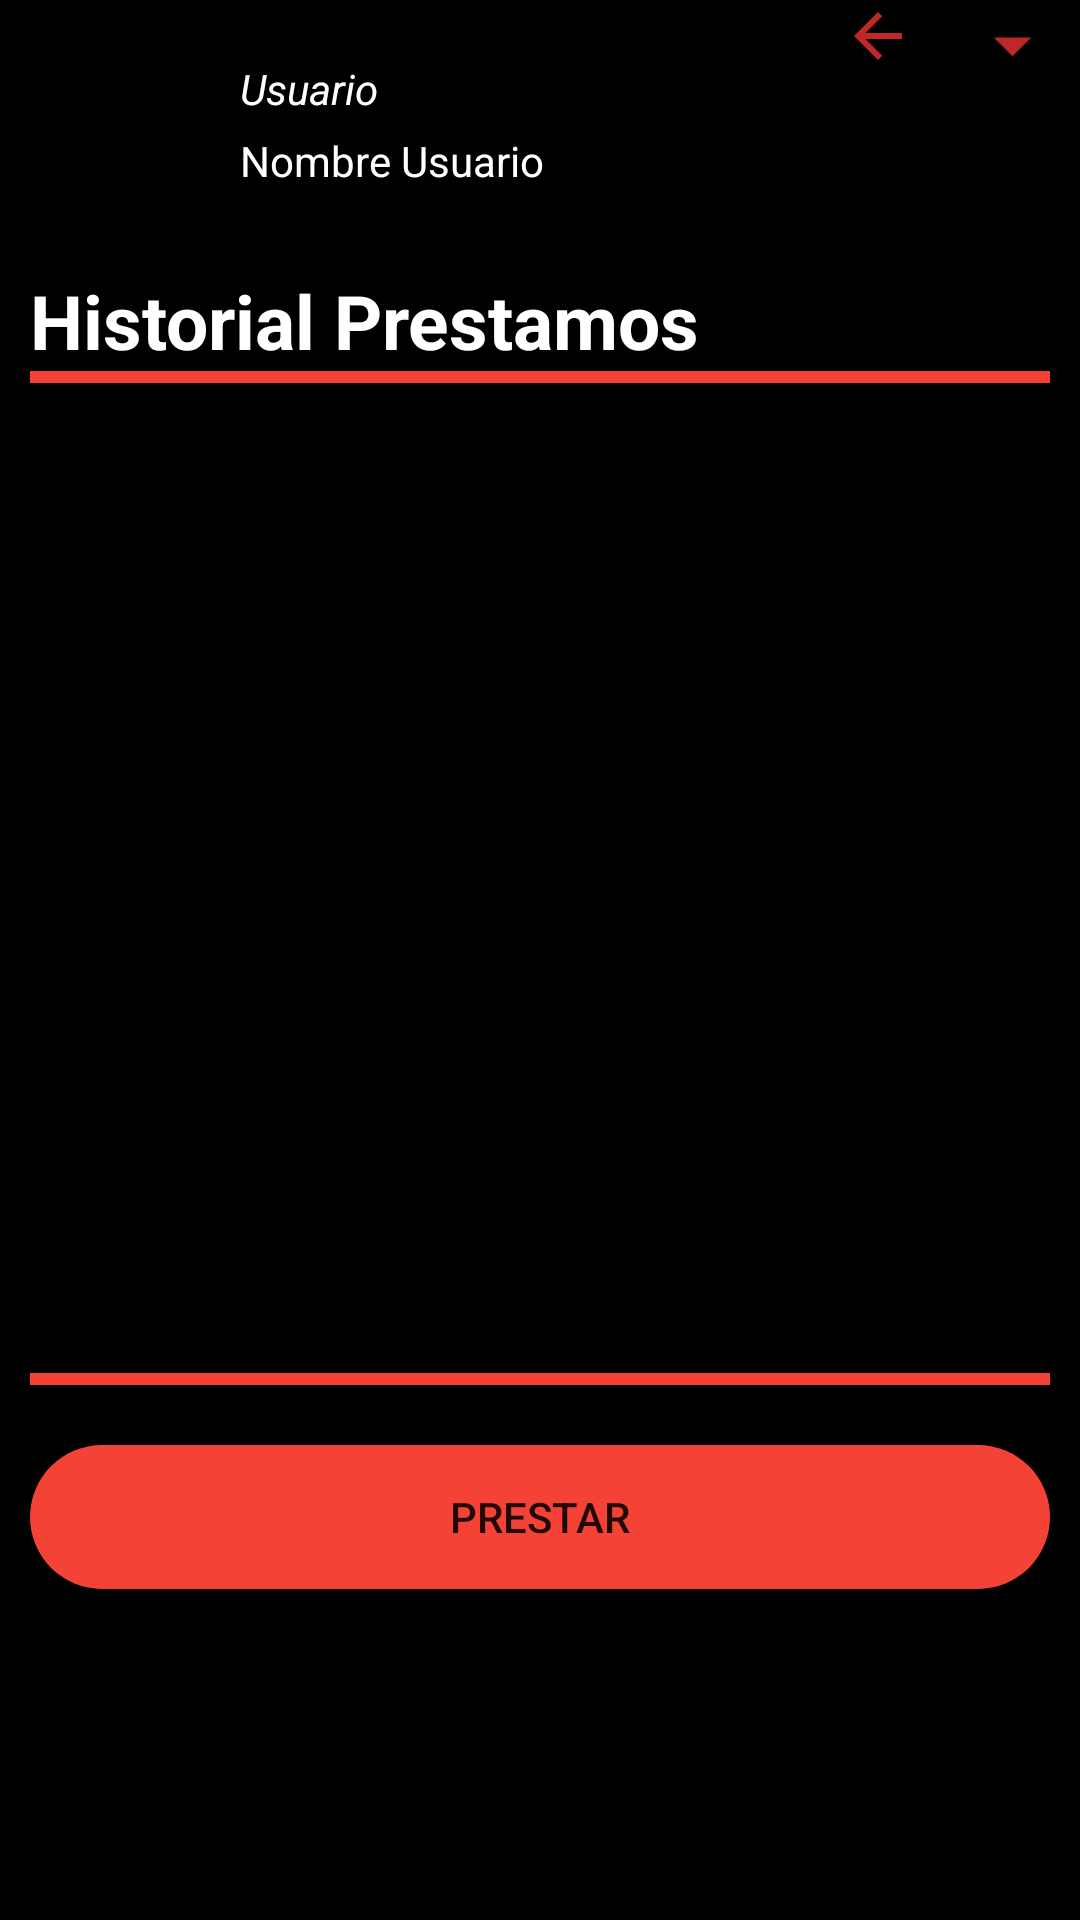

Icons on this 1080 x 1920 Android screen, each with its box as (x1, y1, x2, y2):
arrow back: (854, 12, 902, 60)
arrow menu: (994, 37, 1031, 56)
